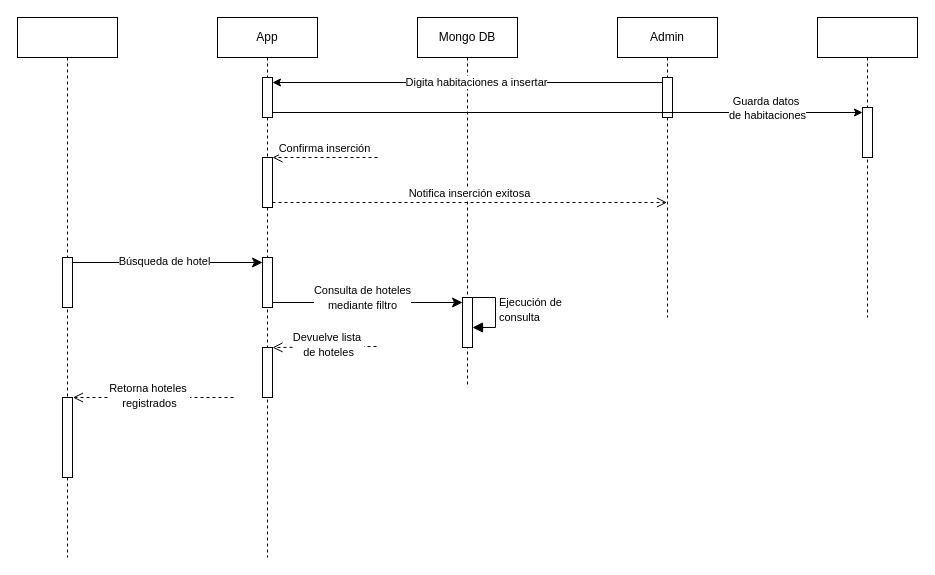
This 935x575 diagram has some shape labels left out. The shapes that lost their labels are listed below. From the top down, each one's centre as x and y in pixels, then its label:
At point 867,167: "API".
At point 67,287: "Cliente".
